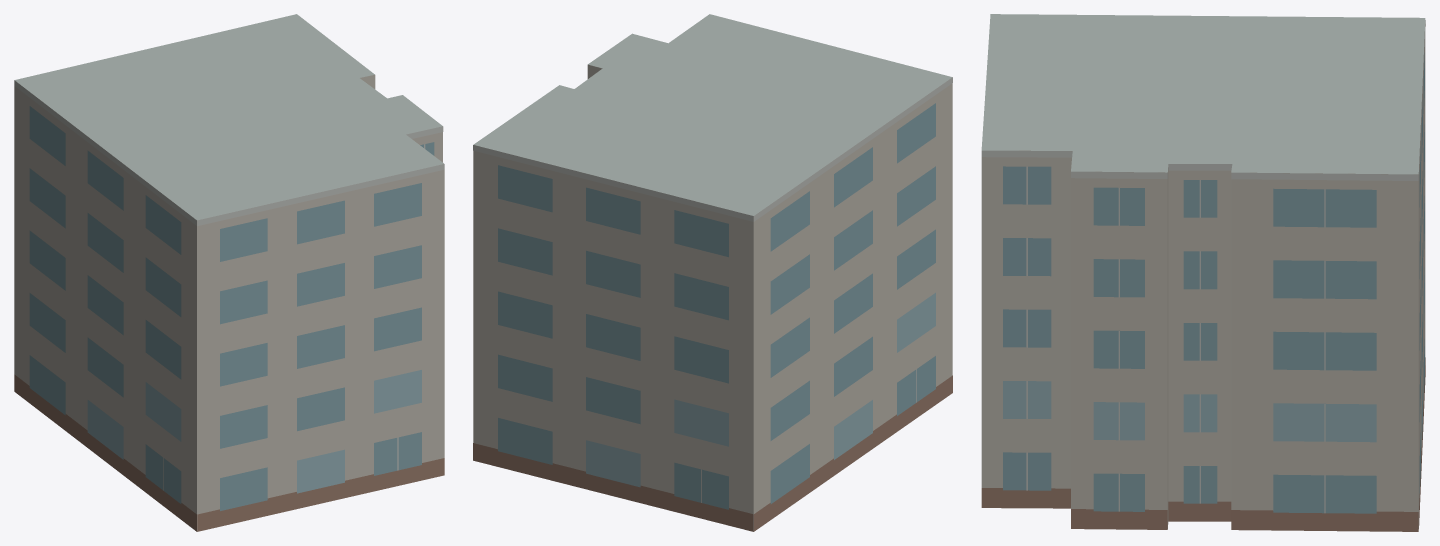
The model's file is survey-upis-32869559.glb.
3 renders of one model, left to right at view 1: azimuth 30°, elevation 25°; view 2: azimuth 150°, elevation 25°; view 3: azimuth 270°, elevation 25°, orthographic. The views are drawn at different scales.
Visible parts, largest first — view 1: survey-upis-32869559.tmp; view 2: survey-upis-32869559.tmp; view 3: survey-upis-32869559.tmp.
Part boxes in pixels (x1=…): survey-upis-32869559.tmp: x1=14, y1=14, x2=444, y2=531; survey-upis-32869559.tmp: x1=473, y1=14, x2=952, y2=531; survey-upis-32869559.tmp: x1=981, y1=14, x2=1425, y2=531.
Size of the model in its own units: 12.62 by 13.1 by 14.75.
